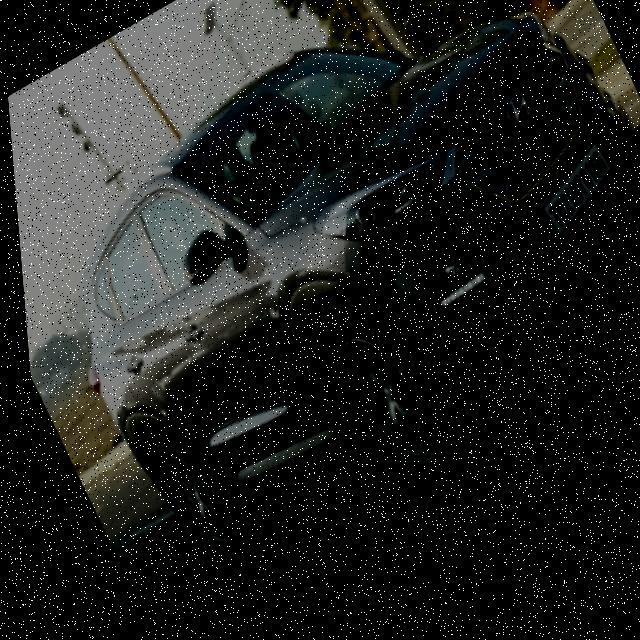license_plate: (509, 160, 629, 267)
